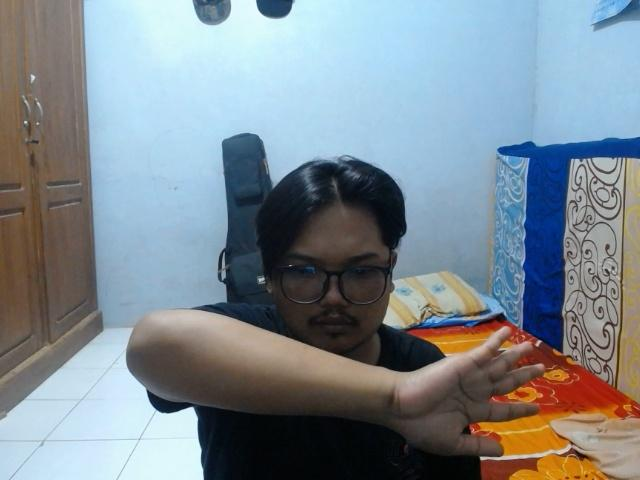Release: (388, 317, 550, 464)
